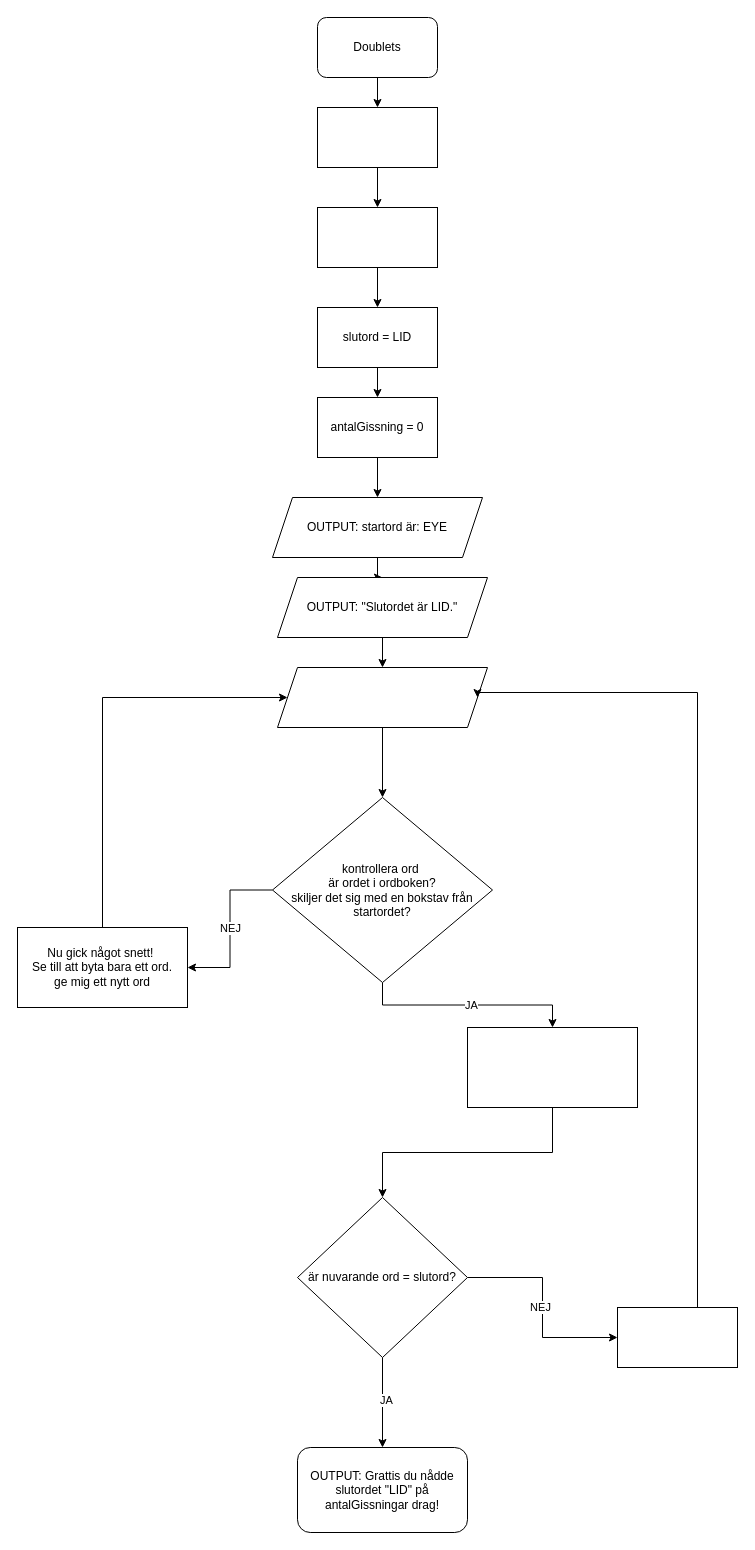
This 755x1550 diagram has some shape labels left out. The centre of each missing label's shape, as x and y in pixels:
användare fortsätter spela: (x=677, y=1337)
gör om startord till nuvarande ord. Öka antal gissningar: (x=552, y=1067)
INPUT från användaren: (x=382, y=697)
ordbok = [BYE, LIE, LID, RYE, LYE, AYE]: (x=377, y=137)
startord = EYE: (x=377, y=237)
